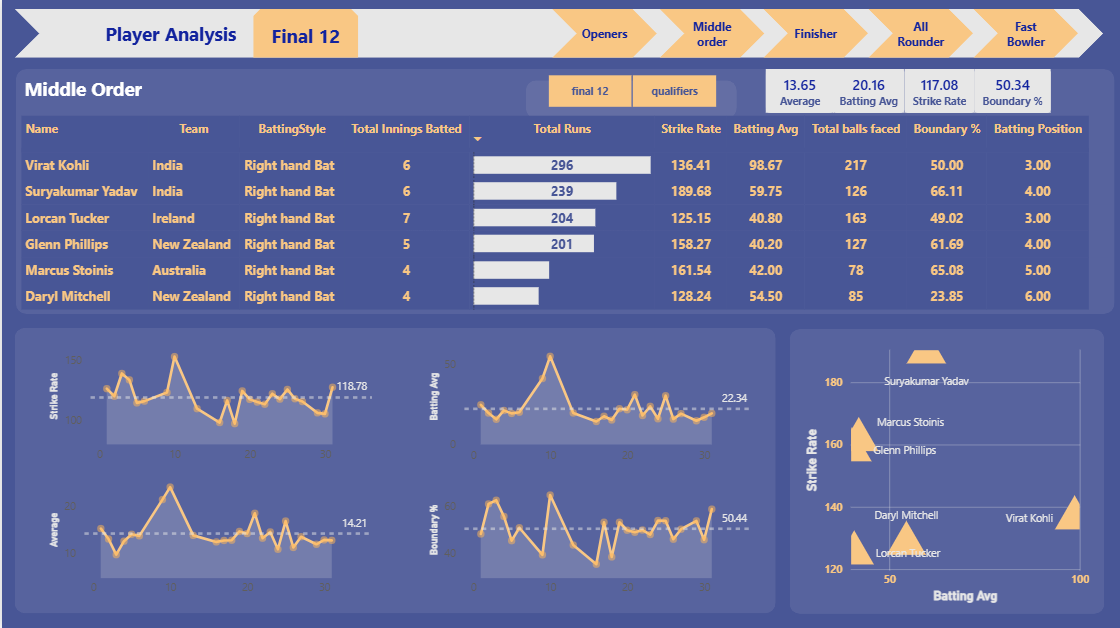

This screenshot's page, from the dashboard's own definition file:
{"tool":"powerbi","page":{"name":"Middle order","canvas":[1280,720],"ordinal":1},"visuals":[{"type":"shape","box":[598.8,92.5,241.2,43.8],"z":0},{"type":"shape","box":[900,377.1,360,325.7],"z":1000},{"type":"shape","box":[15.7,80,1255.7,280],"z":2000},{"type":"tableEx","fields":{"Values":["dim_players.name","dim_players.team","dim_players.battingStyle","key measures.Total Innings Batted","key measures.Total Runs","key measures.Strike Rate","key measures.Batting Avg","key measures.total balls faced","key measures.Boundary %","key measures.Batting Position"]},"box":[15.7,128.6,1244.3,236],"z":3000},{"type":"scatterChart","title":"Batting Avg Vs Strike Rate","fields":{"Y":["key measures.Strike Rate"],"X":["key measures.Batting Avg"],"Category":["dim_players.name"]},"box":[912.9,388.6,335,307],"z":4000},{"type":"shape","box":[13.8,375,870,326.2],"z":5000},{"type":"areaChart","fields":{"Y":["key measures.Strike Rate"],"Category":["dim_match_summary.matchDate.Variation.Date Hierarchy.Day"]},"box":[48.8,386.2,378.8,152.5],"z":6000},{"type":"areaChart","fields":{"Y":["key measures.average"],"Category":["dim_match_summary.matchDate.Variation.Date Hierarchy.Day"]},"box":[48.8,538.8,378.8,152.5],"z":7000},{"type":"areaChart","fields":{"Y":["key measures.Boundary %"],"Category":["dim_match_summary.matchDate.Variation.Date Hierarchy.Day"]},"box":[482.5,538.8,378.8,152.5],"z":8000},{"type":"areaChart","fields":{"Category":["dim_match_summary.matchDate.Variation.Date Hierarchy.Day"],"Y":["key measures.Batting Avg"]},"box":[482.5,385,378.8,153.8],"z":9000},{"type":"slicer","fields":{"Values":["dim_match_summary.stage"]},"box":[598.6,80,241.4,50],"z":10000},{"type":"cardVisual","fields":{"Data":["key measures.Strike Rate"]},"box":[1031.4,80,80,50],"z":11000},{"type":"cardVisual","fields":{"Data":["key measures.Batting Avg"]},"box":[950,80,81.1,50],"z":12000},{"type":"cardVisual","fields":{"Data":["key measures.Boundary %"]},"box":[1111.4,80,87.1,50],"z":13000},{"type":"cardVisual","fields":{"Data":["key measures.Average"]},"box":[873.3,80,78.9,50],"z":14000},{"type":"shape","box":[25,73.8,140,56.2],"z":15000},{"type":"shape","box":[14.3,11.4,1244.3,55.7],"z":16000},{"type":"shape","box":[751.4,11.4,120,55.7],"z":17000},{"type":"shape","box":[870,11.4,120,55.7],"z":18000},{"type":"shape","box":[990,11.4,120,55.7],"z":19000},{"type":"shape","box":[1110,11.4,120,55.7],"z":20000},{"type":"shape","box":[628.6,11.4,120,55.7],"z":21000},{"type":"shape","box":[287.1,11.4,120,55.7],"z":22000},{"type":"shape","box":[114.3,11.4,157.1,55.7],"z":23000}]}

Visuals, with their boxes in screenshot pixels (x1, y1, x2, y2), scaled from the page's 1280x720 canvas onto the 1120x628 screenshot:
shape: [524,81,735,119]
shape: [788,329,1102,613]
shape: [14,70,1112,314]
tableEx - dim_players.name x dim_players.team: [14,112,1102,318]
"Batting Avg Vs Strike Rate" scatterChart: [799,339,1092,607]
shape: [12,327,773,612]
areaChart - key measures.Strike Rate x dim_match_summary.matchDate.Variation.Date Hierarchy.Day: [43,337,374,470]
areaChart - key measures.average x dim_match_summary.matchDate.Variation.Date Hierarchy.Day: [43,470,374,603]
areaChart - key measures.Boundary % x dim_match_summary.matchDate.Variation.Date Hierarchy.Day: [422,470,754,603]
areaChart - dim_match_summary.matchDate.Variation.Date Hierarchy.Day x key measures.Batting Avg: [422,336,754,470]
slicer - dim_match_summary.stage: [524,70,735,113]
cardVisual - key measures.Strike Rate: [902,70,972,113]
cardVisual - key measures.Batting Avg: [831,70,902,113]
cardVisual - key measures.Boundary %: [972,70,1049,113]
cardVisual - key measures.Average: [764,70,833,113]
shape: [22,64,144,113]
shape: [13,10,1101,59]
shape: [657,10,762,59]
shape: [761,10,866,59]
shape: [866,10,971,59]
shape: [971,10,1076,59]
shape: [550,10,655,59]
shape: [251,10,356,59]
shape: [100,10,237,59]
